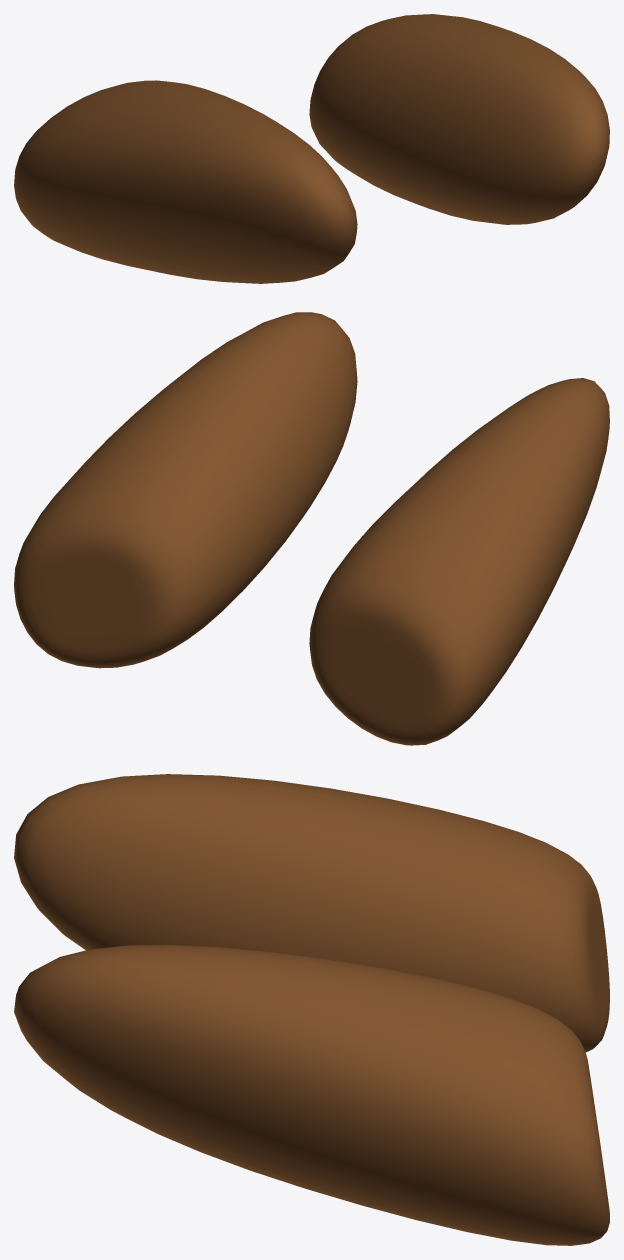
The model's file is gambebearfbx.fbx.
3 renders of one model, top to bottom at view 1: azimuth 30°, elevation 25°; view 2: azimuth 150°, elevation 25°; view 3: azimuth 270°, elevation 25°, orthographic. The views are drawn at different scales.
Parts seen in each view (by area): view 1: Cube.006; view 2: Cube.006; view 3: Cube.006.
Part boxes in pixels (bbox=[...]): Cube.006: bbox=[14, 14, 609, 283]; Cube.006: bbox=[14, 312, 609, 745]; Cube.006: bbox=[14, 774, 609, 1245].
Bounding box in the file's own units: 132 × 58.75 × 117.
